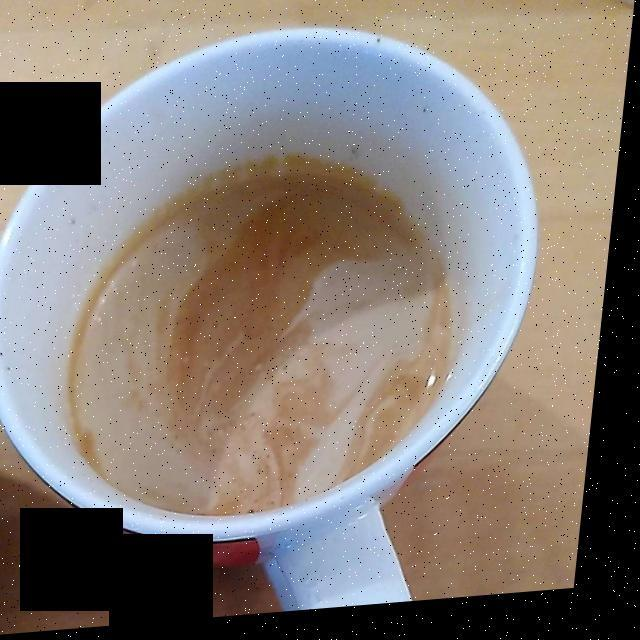espresso: (79, 169, 460, 514)
